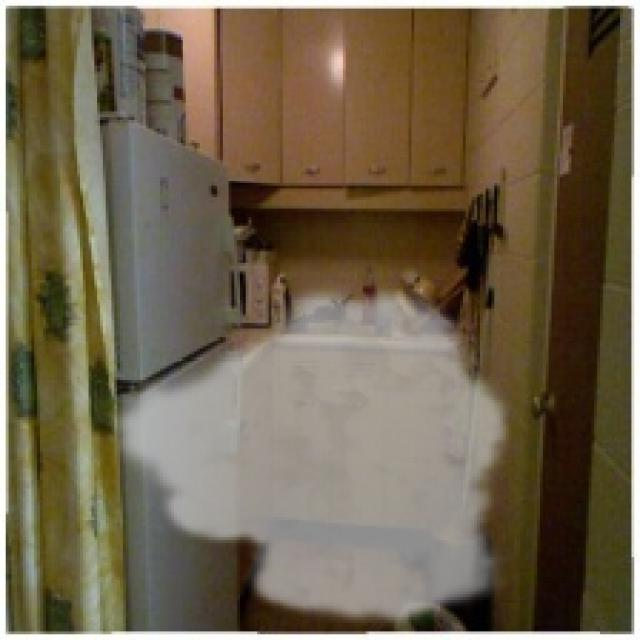smoke: (103, 277, 514, 629)
